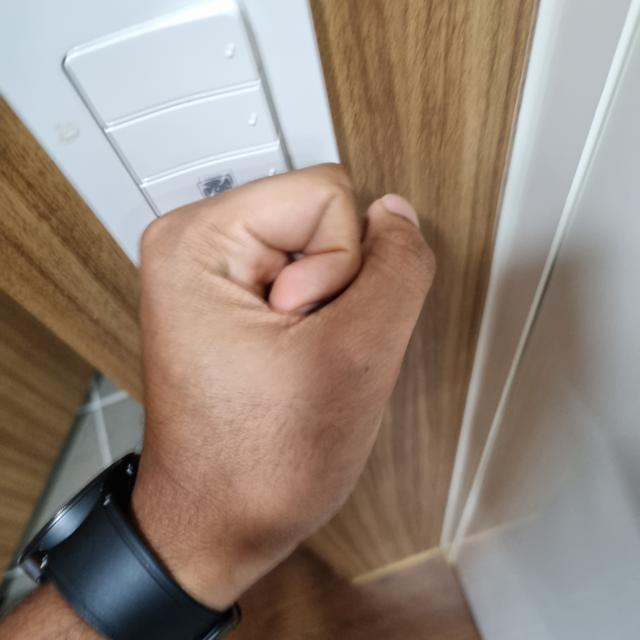Rock: (133, 163, 433, 555)
